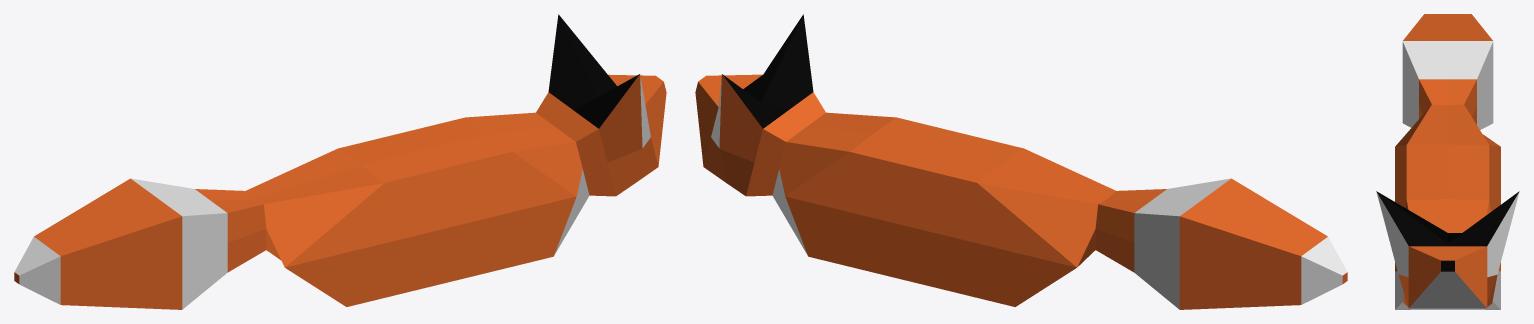
File: Fox.fbx
The picture shows the model from 3 angles, left to right: view 1: azimuth 30°, elevation 25°; view 2: azimuth 150°, elevation 25°; view 3: azimuth 270°, elevation 25°; orthographic projection. The views are drawn at different scales.
Visible parts, largest first — view 1: Cube; view 2: Cube; view 3: Cube.
Boxes of the visible parts, <box> form: Cube: <box>14,14,666,309</box>; Cube: <box>695,14,1347,309</box>; Cube: <box>1376,14,1519,309</box>.
Bounding box in the file's own units: 1238 × 316 × 271.
